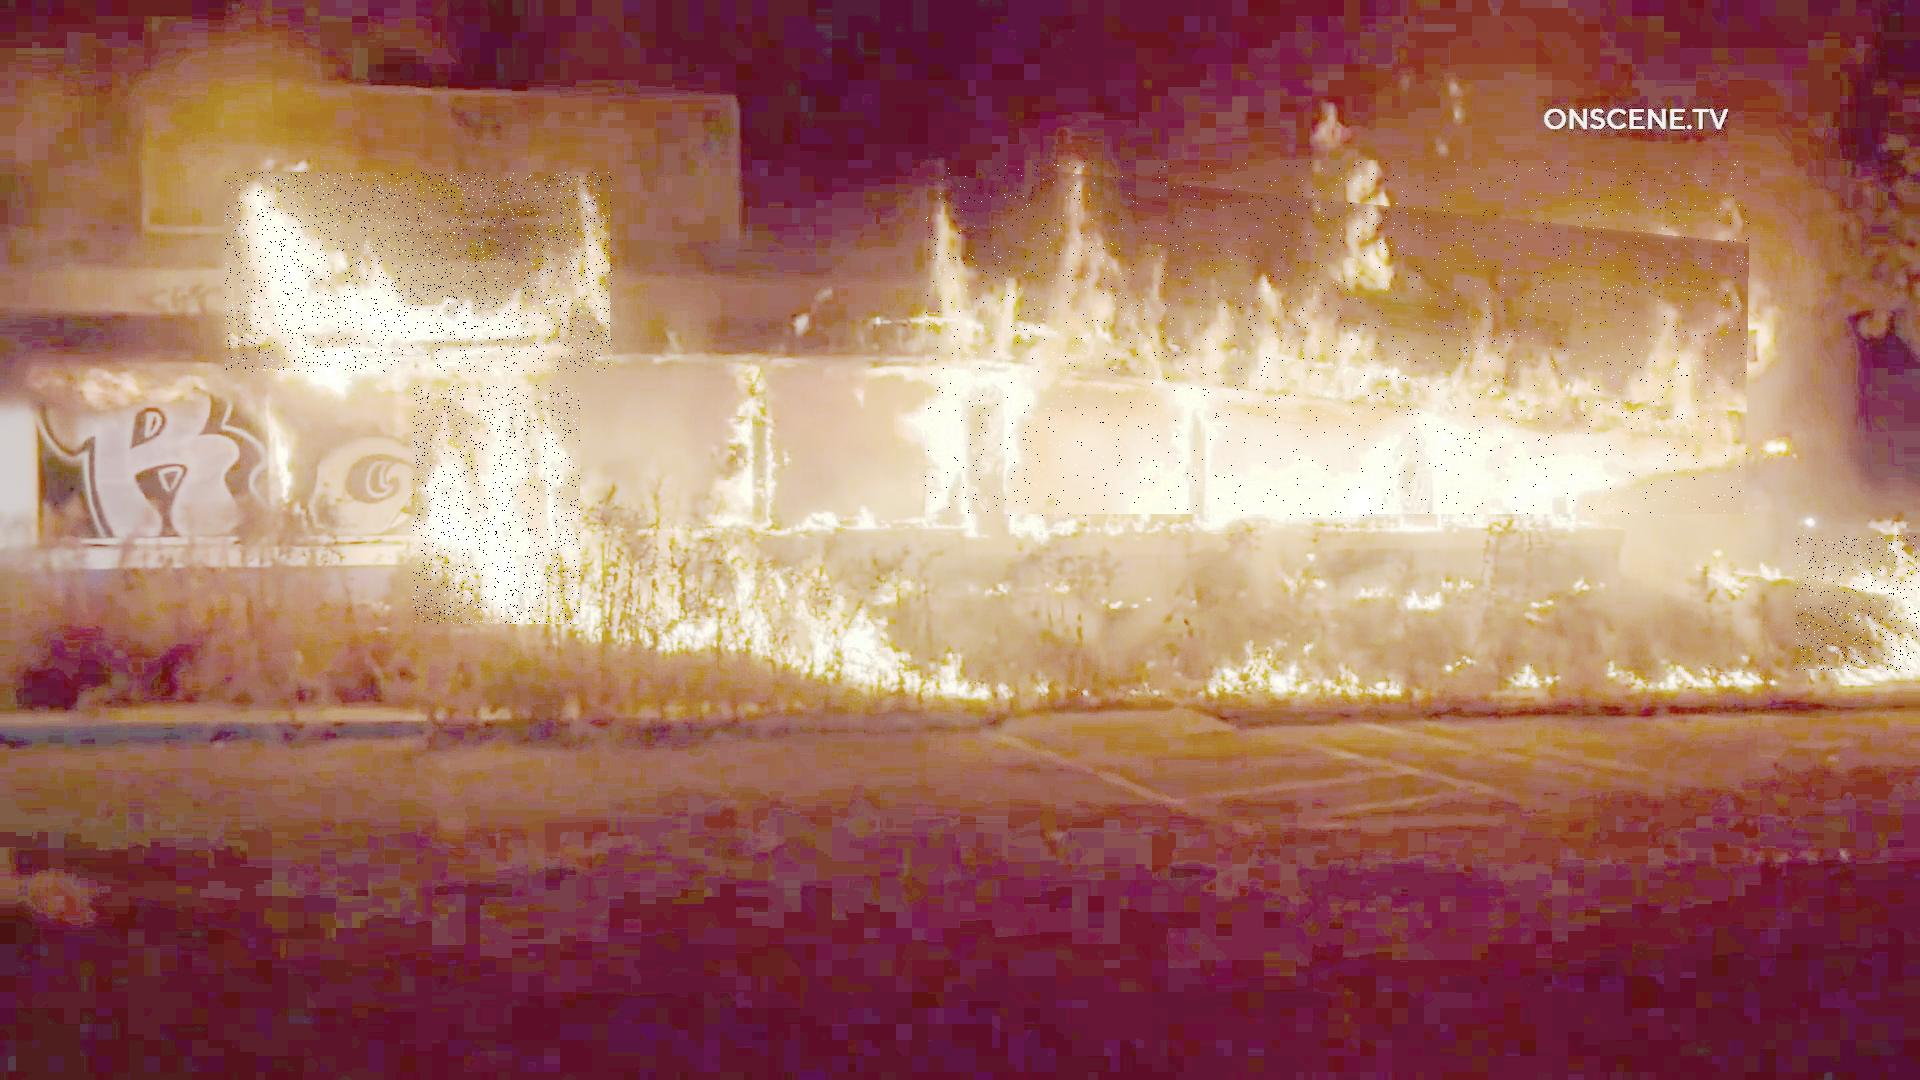fire: (926, 161, 1749, 517), (225, 173, 613, 373), (413, 385, 580, 625), (1796, 535, 1920, 673)
